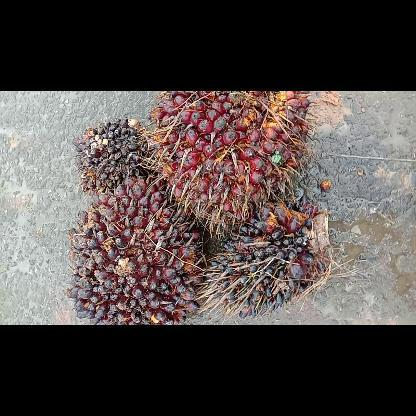Kurang masak: (70, 178, 200, 324)
TBS abnormal: (204, 198, 328, 320), (71, 118, 154, 190)
TBS masak: (151, 91, 310, 223)
